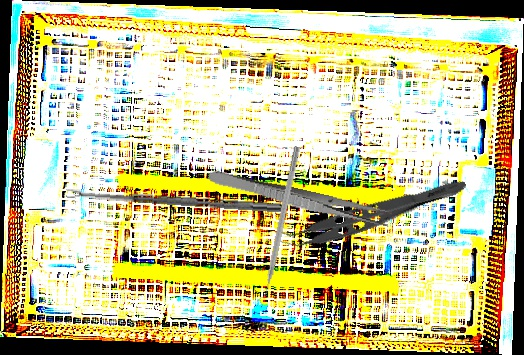Chopper: (252, 144, 301, 305)
Dressing Forceps: (206, 168, 393, 229)
Surgical Spoon: (65, 187, 283, 213)
Tissue Forceps: (276, 162, 469, 260)
